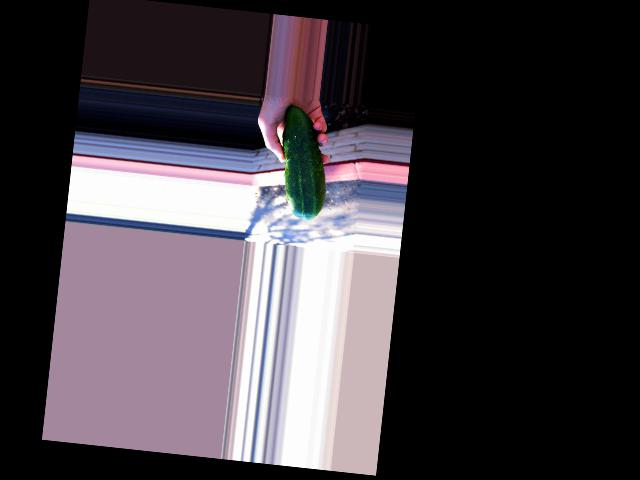cucumber: (274, 105, 335, 220)
